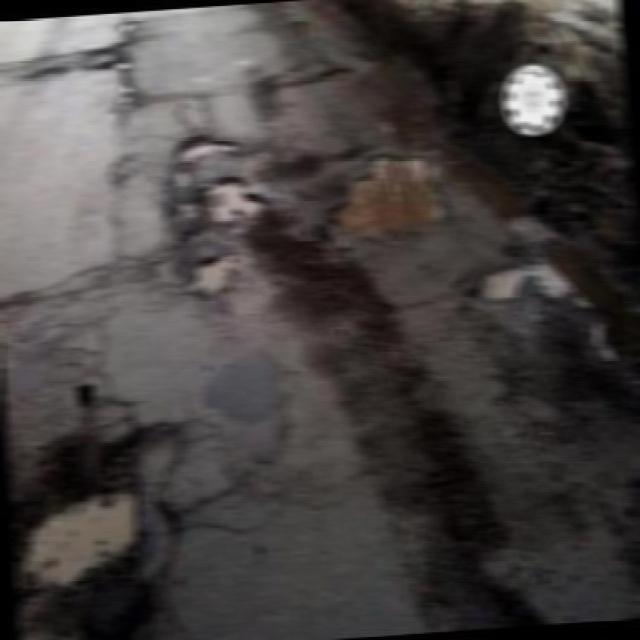Pothole: (0, 404, 188, 618), (462, 248, 640, 373), (314, 148, 457, 257), (168, 240, 267, 306), (157, 172, 276, 222), (163, 127, 244, 160)
